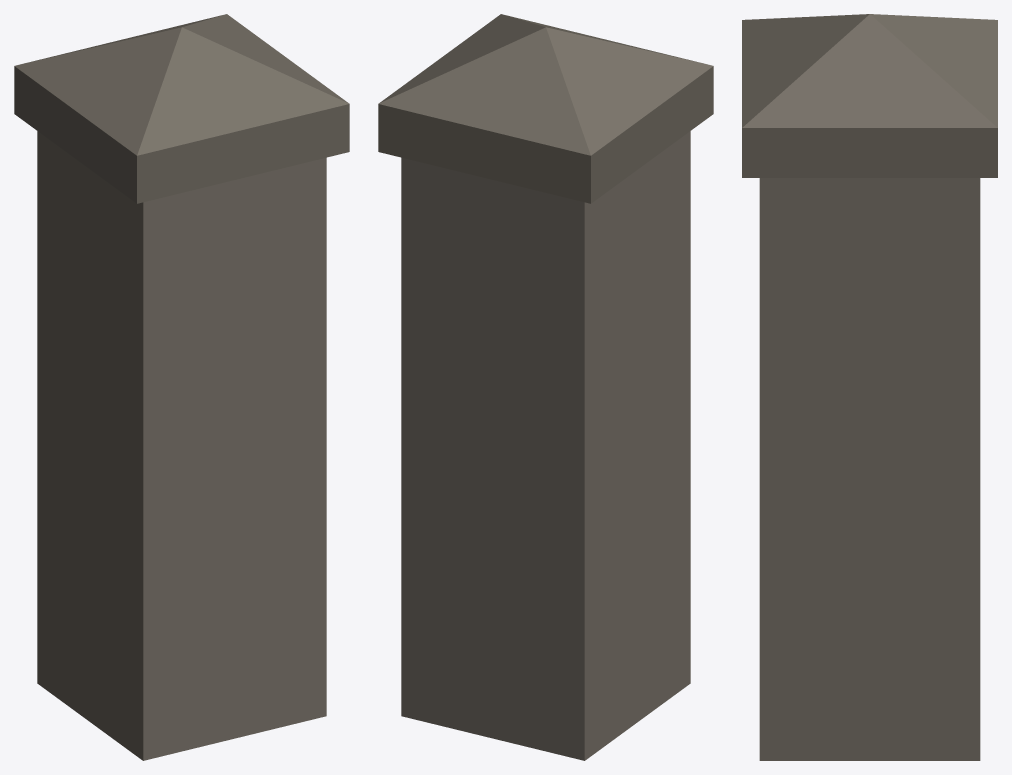
The model's file is SM_Bldg_City_Apartment_Fence_01_Column.fbx.
The picture shows the model from 3 angles, left to right: view 1: azimuth 30°, elevation 25°; view 2: azimuth 150°, elevation 25°; view 3: azimuth 270°, elevation 25°; orthographic projection. The views are drawn at different scales.
Visible parts, largest first — view 1: SM_Bldg_City_Apartment_Fence_01_Column; view 2: SM_Bldg_City_Apartment_Fence_01_Column; view 3: SM_Bldg_City_Apartment_Fence_01_Column.
Boxes of the visible parts, <box> form: SM_Bldg_City_Apartment_Fence_01_Column: <box>14,14,349,760</box>; SM_Bldg_City_Apartment_Fence_01_Column: <box>378,14,713,760</box>; SM_Bldg_City_Apartment_Fence_01_Column: <box>742,14,997,760</box>.
Size of the model in its own units: 23.18 by 70 by 23.18.
